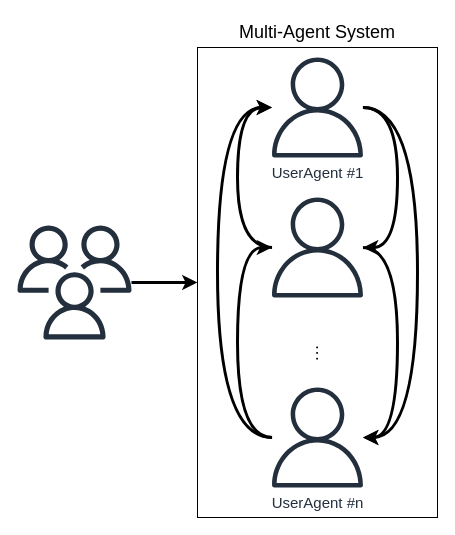
This 455x535 diagram has some shape labels left out. The shapes that lost their labels are listed below. From the top down, each one's box as (x1, y1, x2, y2) in pixels, then its label:
(267, 197, 367, 297): UserAgent #2
(17, 225, 131, 339): Users
